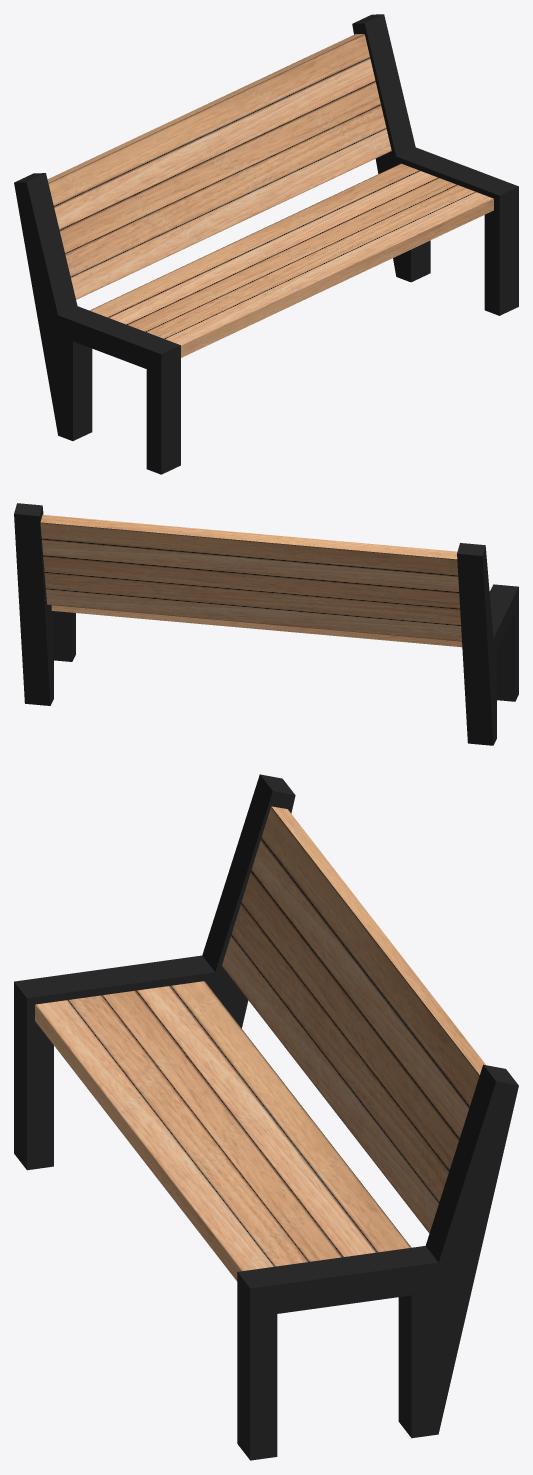
Rendered from Bench__93__1.FBX.
3 renders of one model, top to bottom at view 1: azimuth 30°, elevation 25°; view 2: azimuth 150°, elevation 25°; view 3: azimuth 270°, elevation 25°, orthographic. The views are drawn at different scales.
Parts seen in each view (by area): view 1: Bench__93__1; view 2: Bench__93__1; view 3: Bench__93__1.
Boxes of the visible parts, box(x1,y1,x2,y2) form: Bench__93__1: box(14, 14, 518, 474); Bench__93__1: box(14, 503, 518, 745); Bench__93__1: box(14, 774, 518, 1460).
Bounding box in the file's own units: 27.62 × 12.91 × 17.12.
